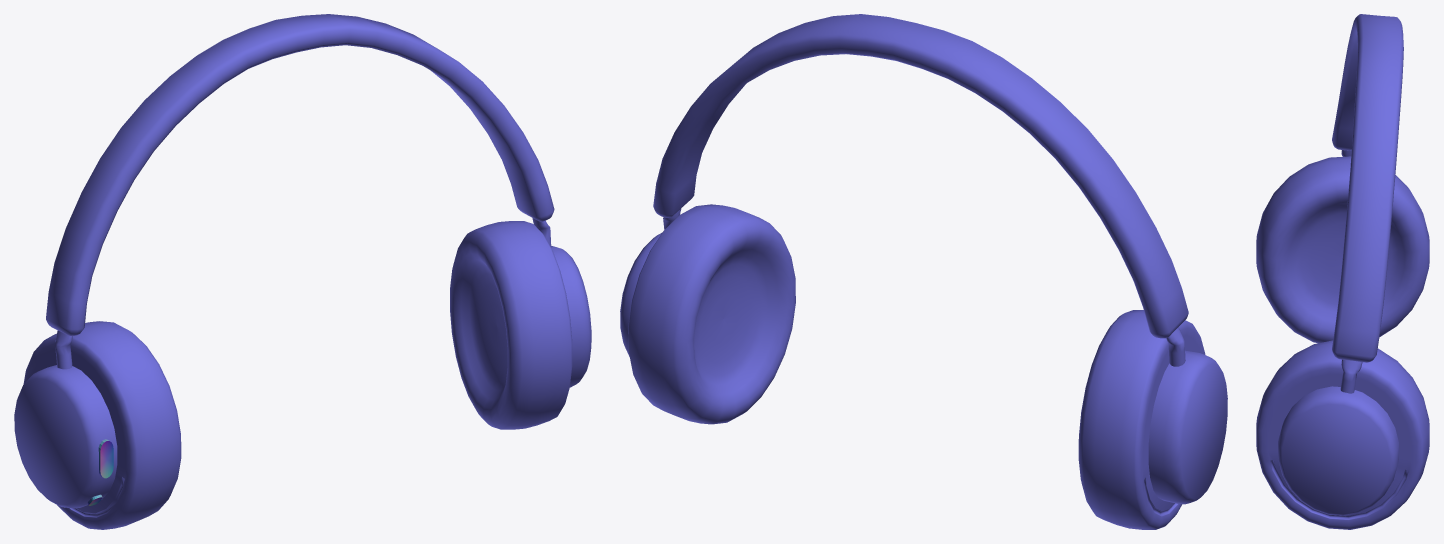
Rendered from erji.fbx.
3 views of the same model, side by side, from view 1: azimuth 30°, elevation 25°; view 2: azimuth 150°, elevation 25°; view 3: azimuth 270°, elevation 25° (orthographic). The views are drawn at different scales.
Visible parts, largest first — view 1: acc_headphone; view 2: acc_headphone; view 3: acc_headphone.
Part boxes in pixels (x1,y1,x2,y2): acc_headphone: (14,14,591,529); acc_headphone: (620,14,1227,529); acc_headphone: (1256,14,1429,529).
Bounding box in the file's own units: 25.02 × 19.31 × 7.71.
